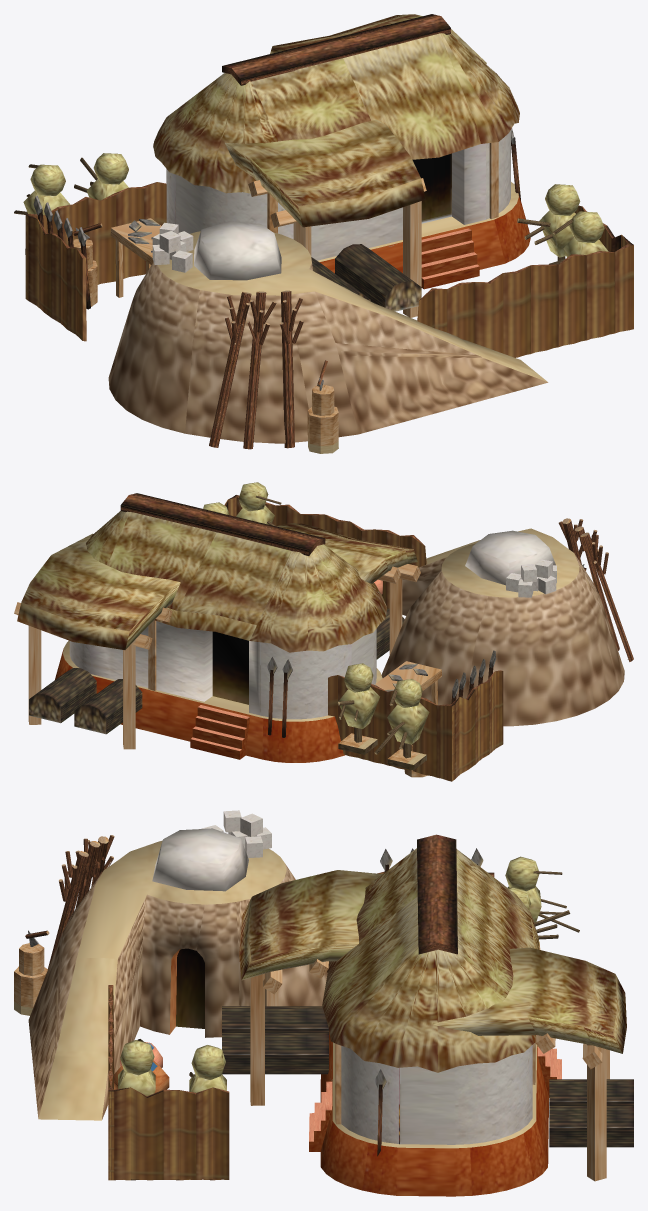
File: forge_1.dae
The picture shows the model from 3 angles, top to bottom: view 1: azimuth 30°, elevation 25°; view 2: azimuth 150°, elevation 25°; view 3: azimuth 270°, elevation 25°; orthographic projection. The views are drawn at different scales.
Parts seen in each view (by area): view 1: forja_1; view 2: forja_1; view 3: forja_1.
Boxes of the visible parts, left/top/right/bottom form: forja_1: left=14, top=14, right=633, bottom=453; forja_1: left=14, top=482, right=633, bottom=781; forja_1: left=14, top=810, right=633, bottom=1196.
Size of the model in its own units: 20.25 by 20.98 by 8.44.
Materials: 1 (1 with a texture image).
